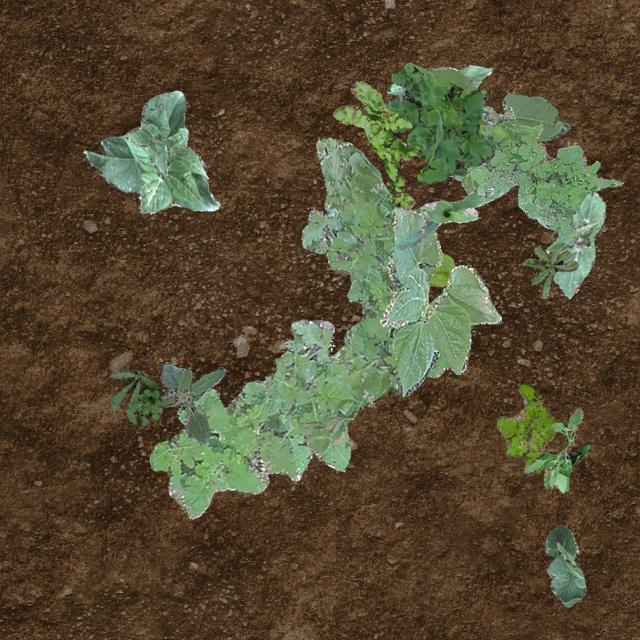crop: (378, 206, 501, 396), (426, 66, 568, 192), (82, 90, 220, 212), (394, 180, 514, 248), (544, 188, 604, 298), (386, 64, 492, 96), (544, 524, 584, 606), (124, 104, 168, 176), (428, 252, 454, 286)
weed: (148, 320, 394, 518), (300, 136, 450, 386), (453, 122, 622, 244), (383, 61, 492, 182), (332, 80, 419, 208), (524, 407, 590, 492), (158, 360, 224, 442), (496, 383, 556, 472), (108, 370, 162, 424), (524, 246, 578, 296)
